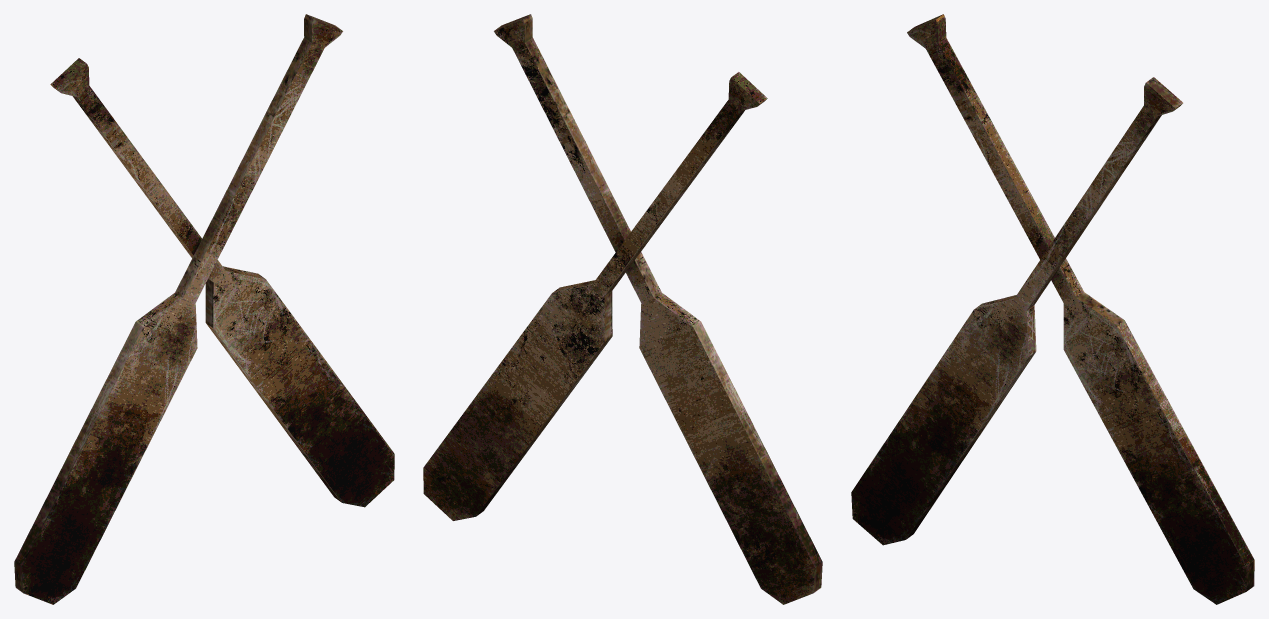
The model's file is SM_Oars_Ornamental.fbx.
3 renders of one model, left to right at view 1: azimuth 30°, elevation 25°; view 2: azimuth 150°, elevation 25°; view 3: azimuth 330°, elevation 25°, orthographic.
Parts seen in each view (by area): view 1: Oars_Ornamental; view 2: Oars_Ornamental; view 3: Oars_Ornamental.
Boxes of the visible parts, x1,y1,x2,y2 form: Oars_Ornamental: [14, 14, 394, 604]; Oars_Ornamental: [423, 14, 822, 604]; Oars_Ornamental: [851, 14, 1254, 604].
Bounding box in the file's own units: 155 × 203 × 12.12.
1 material, 1 textured.
